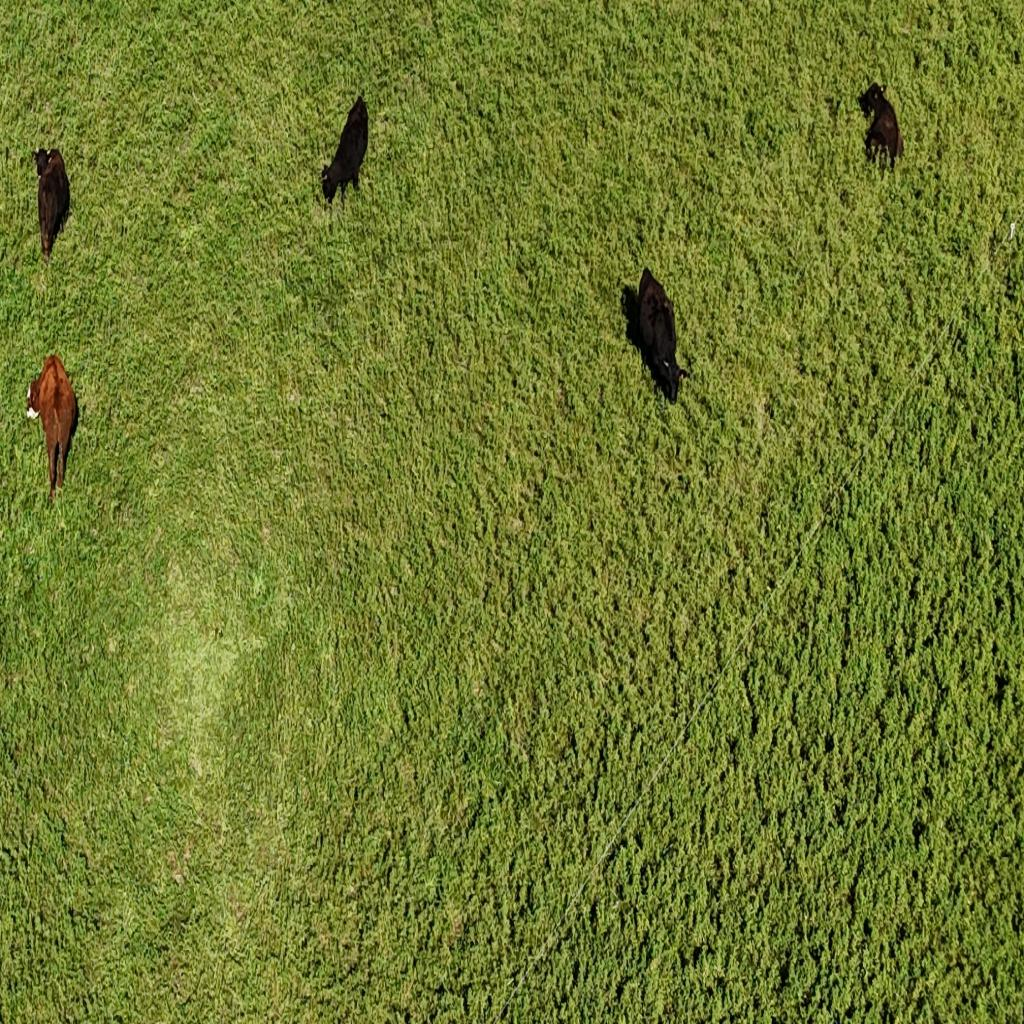cow: (615, 256, 688, 416), (25, 352, 80, 505), (320, 94, 369, 210), (34, 144, 72, 270), (858, 80, 903, 170)
